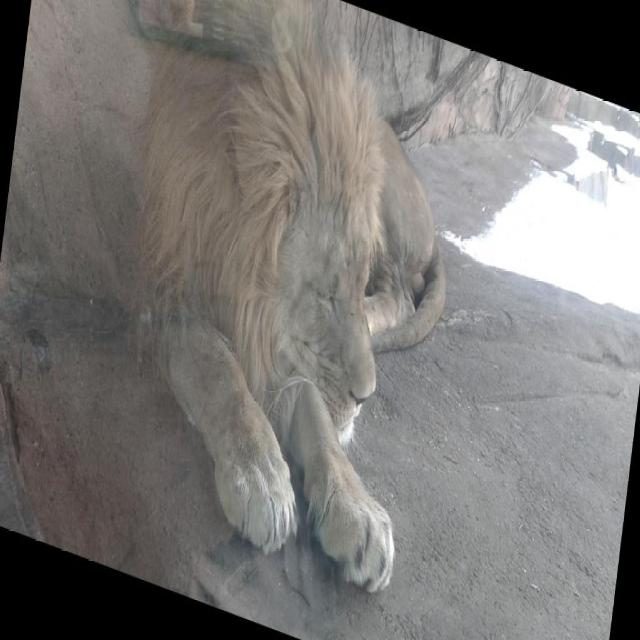Lion: (95, 0, 478, 611)
